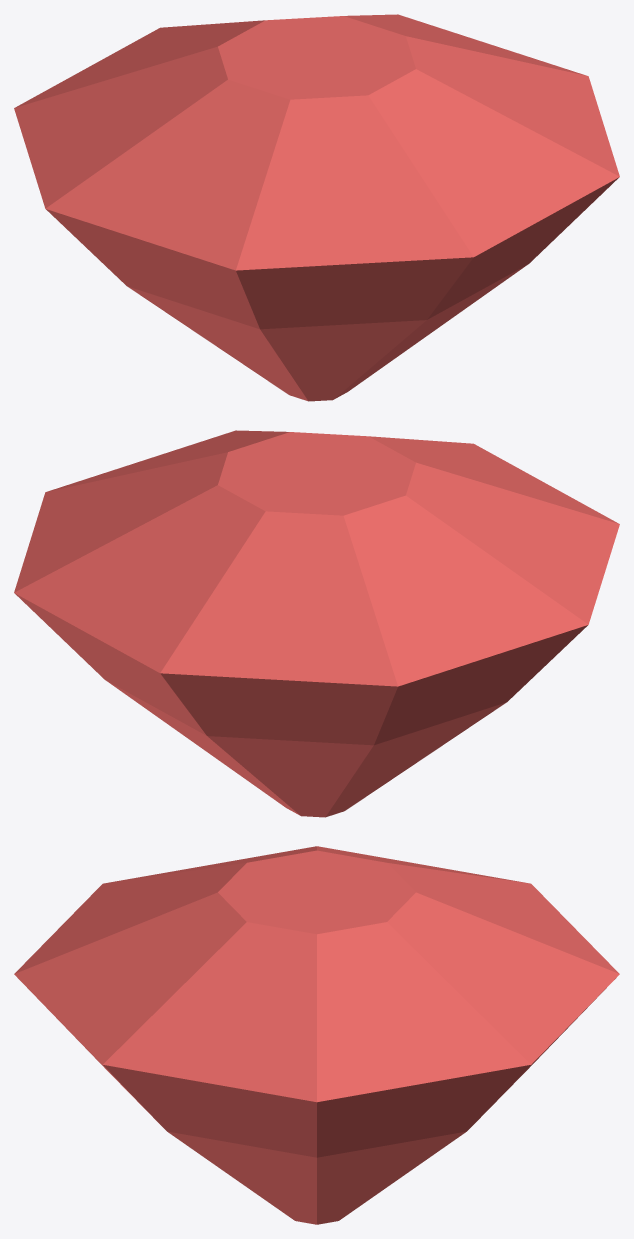
Rendered from RedGem.fbx.
3 views of the same model, one above another, from view 1: azimuth 30°, elevation 25°; view 2: azimuth 150°, elevation 25°; view 3: azimuth 270°, elevation 25° (orthographic). The views are drawn at different scales.
Parts seen in each view (by area): view 1: Gem; view 2: Gem; view 3: Gem.
Boxes of the visible parts, left/top/right/bottom form: Gem: left=14, top=14, right=619, bottom=401; Gem: left=14, top=430, right=619, bottom=817; Gem: left=14, top=846, right=619, bottom=1224.
Size of the model in its own units: 200 by 116 by 200.
